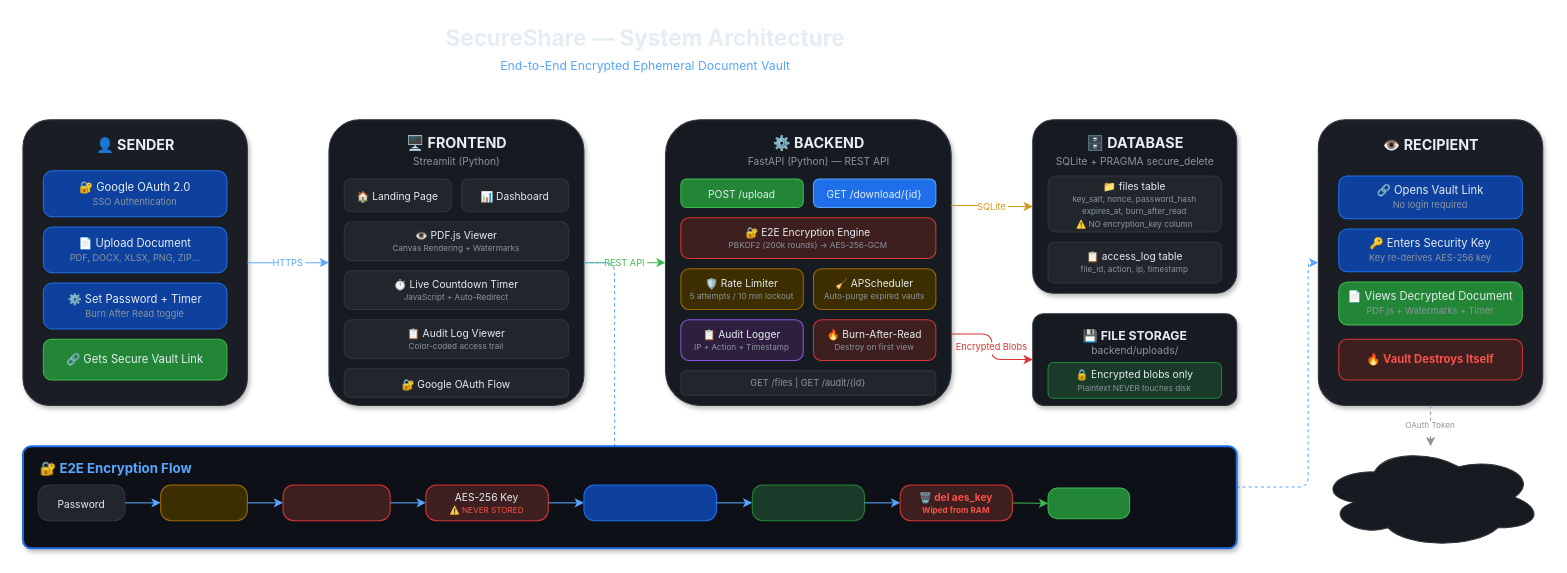
Some shapes in this 1567 by 573 pixel diagram are drawn without their labels. The centre of each missing label's shape, as x and y in pixels:
+ Salt (32 bytes): (203,502)
AES-256-GCM Encrypt + Authenticate: (650,502)
Encrypted Blob Stored on disk: (807,502)
PBKDF2 200,000 rounds: (336,502)
☁️ Google Cloud OAuth 2.0 Provider: (1430,496)
✅ DONE: (1088,503)
